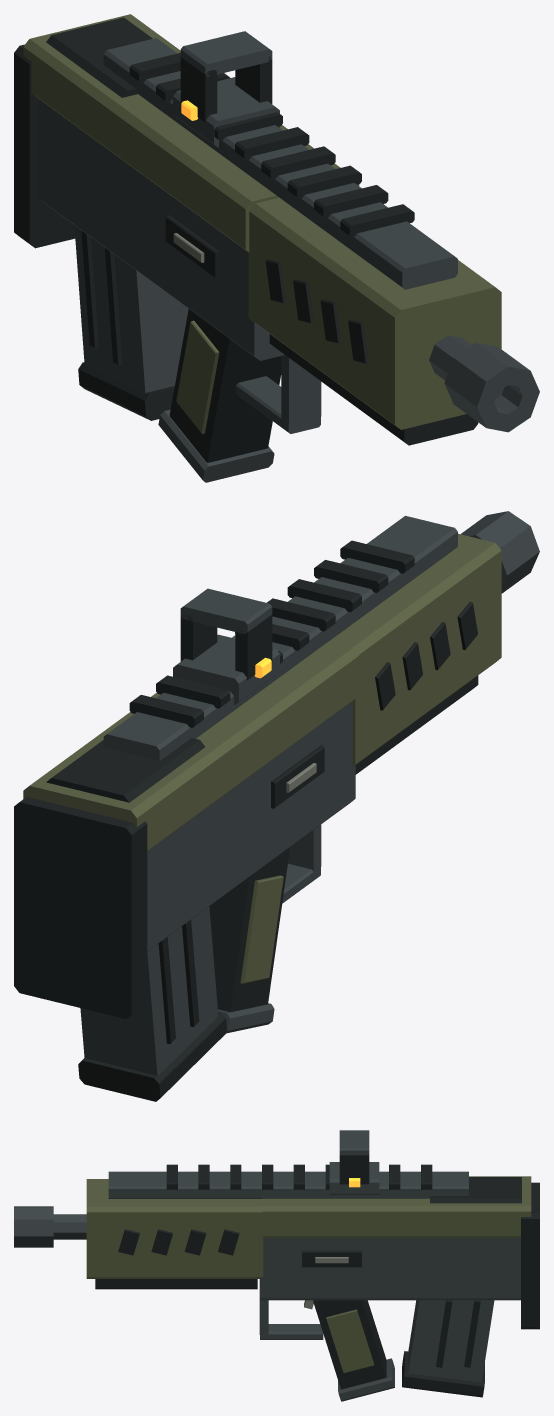
Rendered from AssaultRifle.gltf.
3 renders of one model, top to bottom at view 1: azimuth 30°, elevation 25°; view 2: azimuth 150°, elevation 25°; view 3: azimuth 270°, elevation 25°, orthographic. The views are drawn at different scales.
Visible parts, largest first — view 1: AssaultRifle; view 2: AssaultRifle; view 3: AssaultRifle.
Boxes of the visible parts, left/top/right/bottom form: AssaultRifle: left=14, top=14, right=539, bottom=482; AssaultRifle: left=14, top=511, right=539, bottom=1101; AssaultRifle: left=14, top=1130, right=539, bottom=1401.
Size of the model in its own units: 0.116 by 0.3955 by 0.7445.
